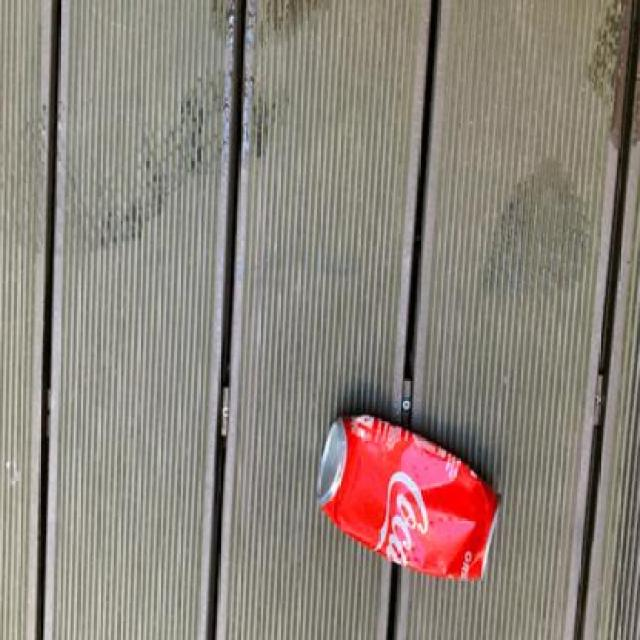Metal: (314, 412, 502, 581)
